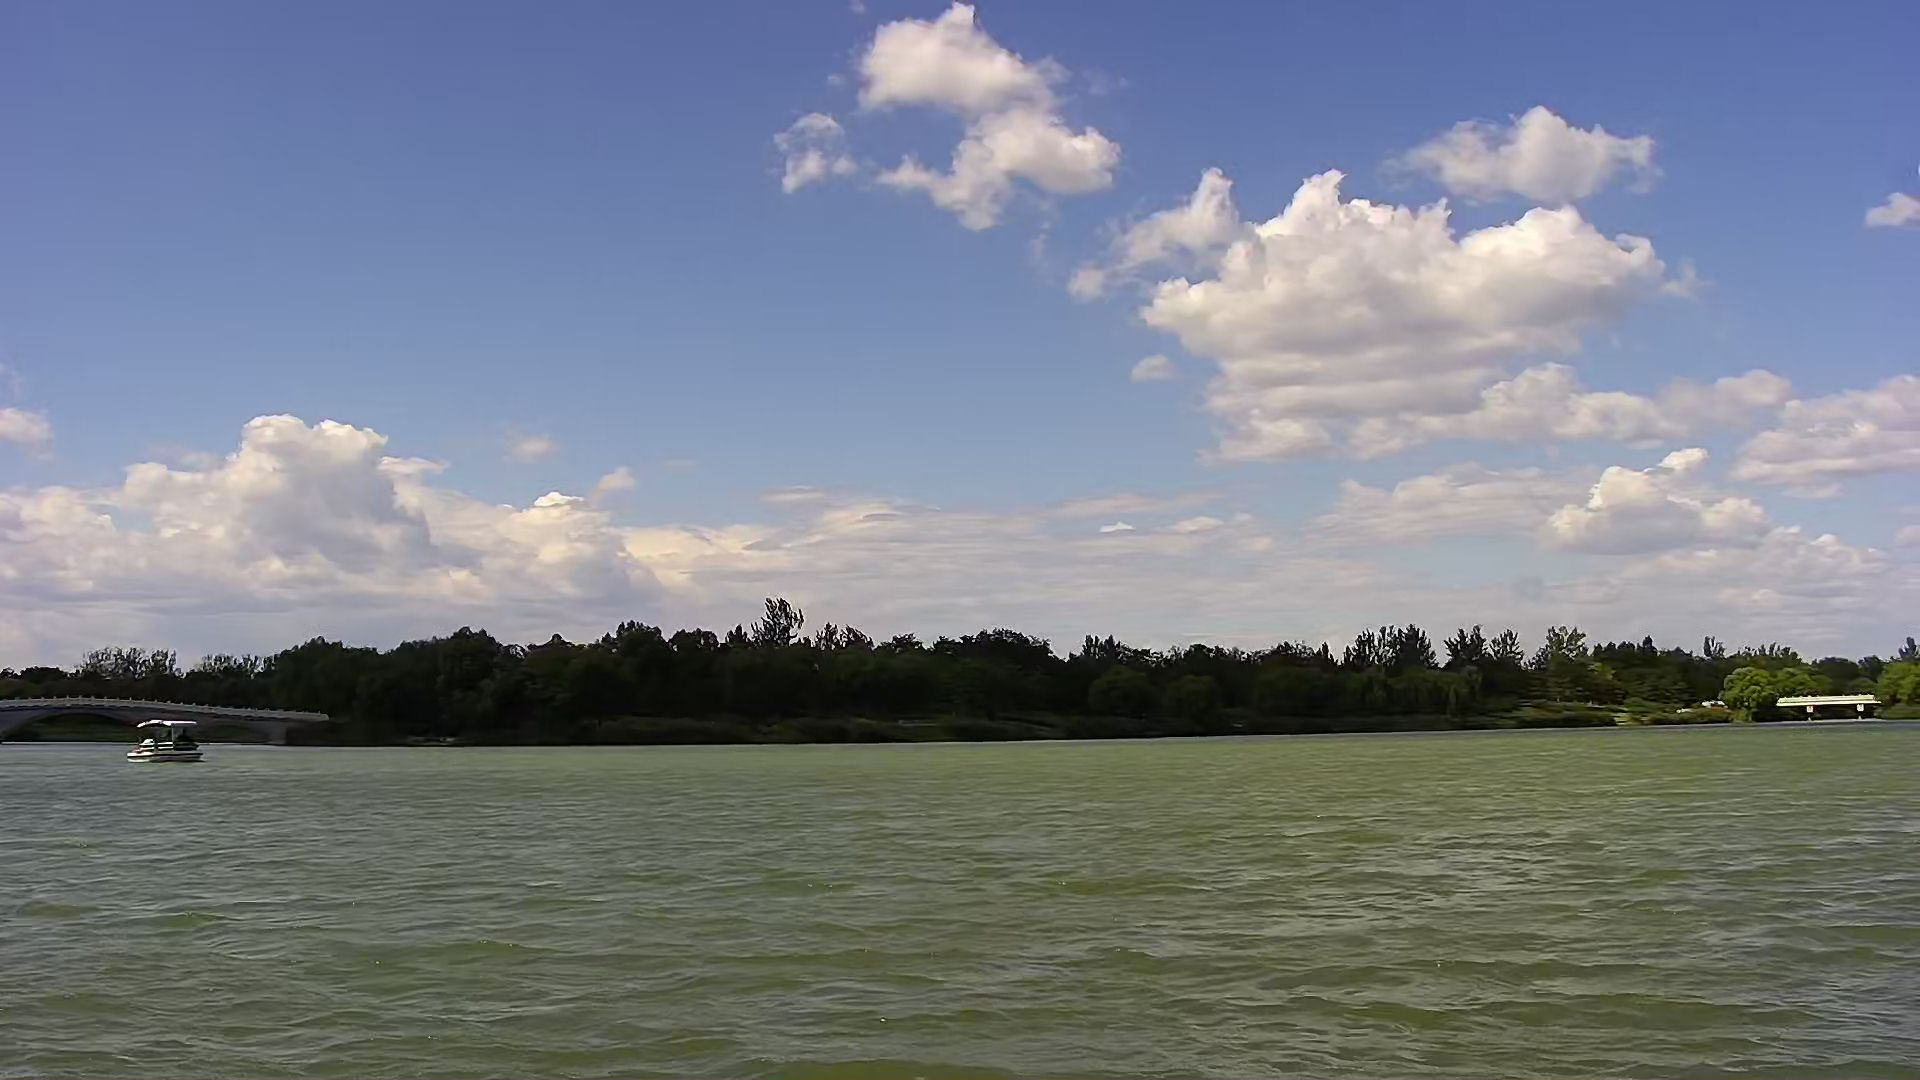boat: (124, 719, 208, 767)
bridge: (1, 698, 318, 745), (1771, 687, 1880, 731)
